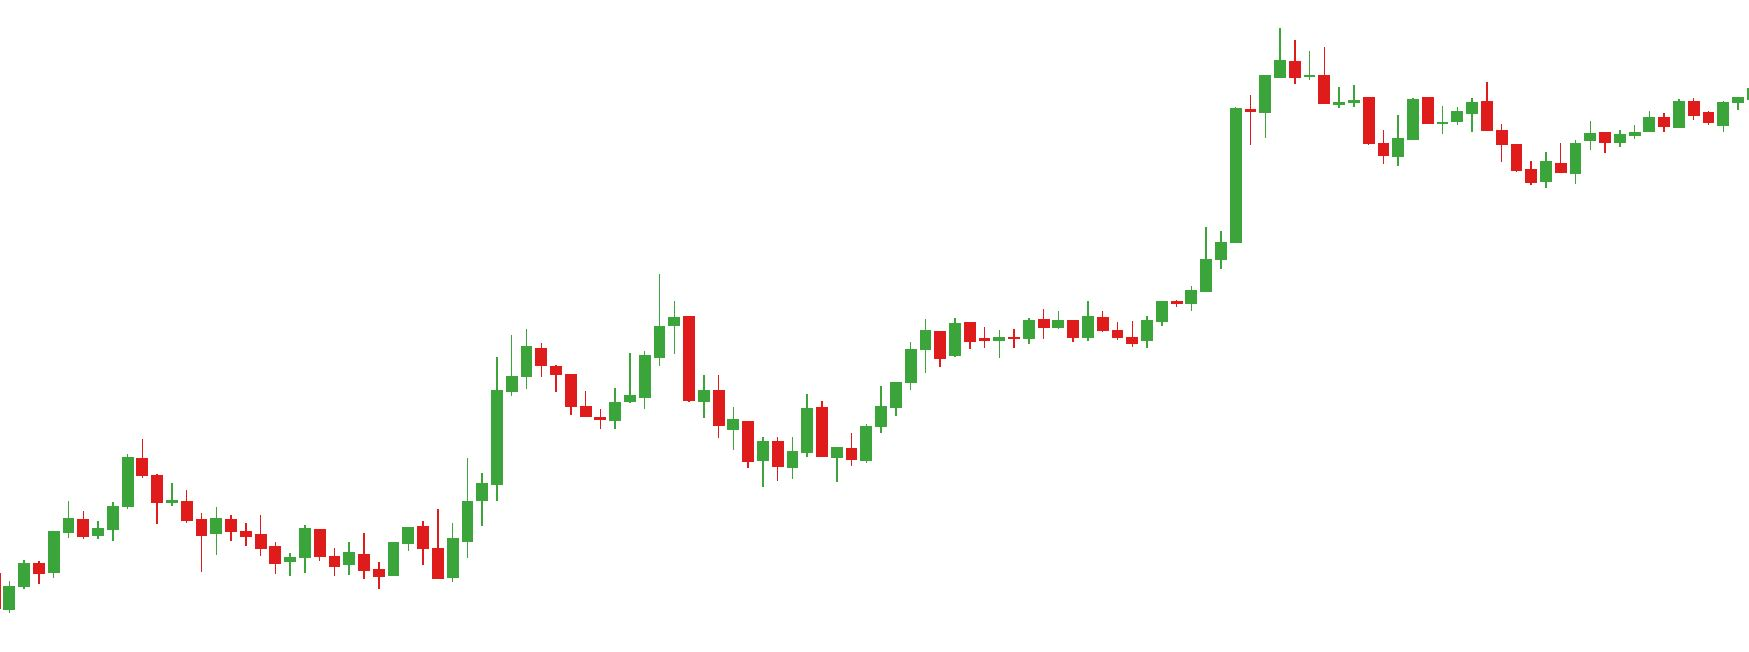buy: (1376, 106, 1554, 189)
sell: (504, 273, 697, 378)
